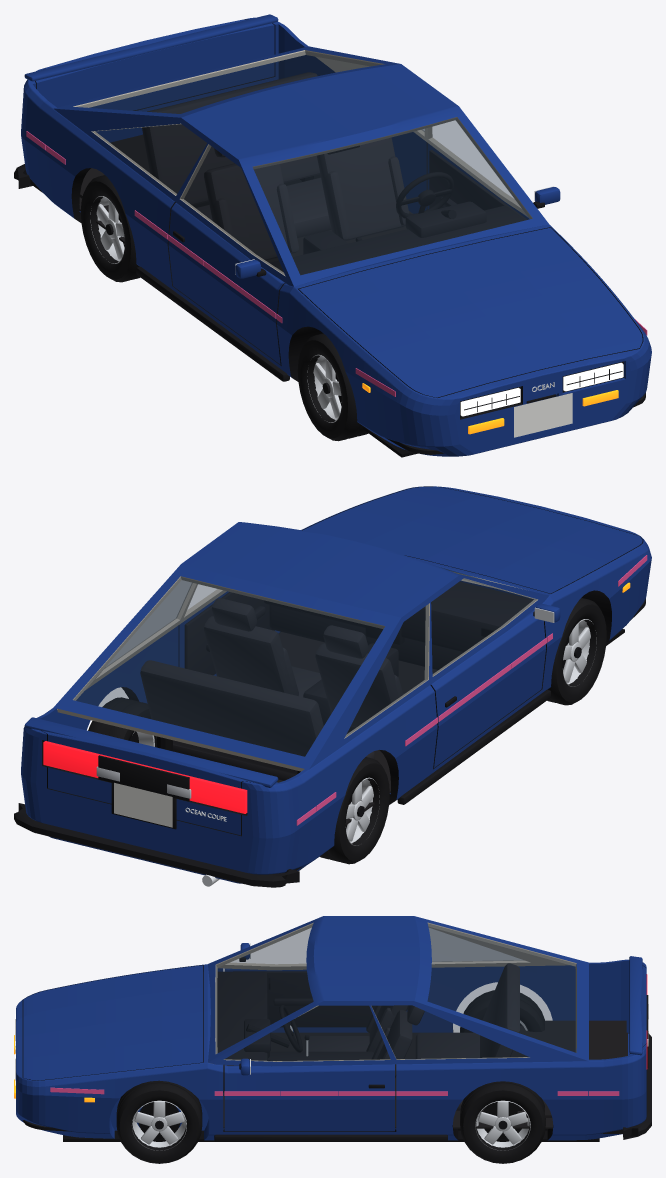
Rendered from ocean-coupe.glb.
3 renders of one model, top to bottom at view 1: azimuth 30°, elevation 25°; view 2: azimuth 150°, elevation 25°; view 3: azimuth 270°, elevation 25°, orthographic. The views are drawn at different scales.
Visible parts, largest first — view 1: Body, Hood, Windows, Interior, Tailgate, Door_FR, Glass_Rear, Glass_Door_F_R, Tire_FR, Tire_RR, Lights, DoorCard_FL (+5 smaller); view 2: Body, Interior, Glass_Rear, Hood, Tailgate, Door_FR, Windows, Glass_Door_F_R, Lights, Tire_RR, Tire_FR, DoorCard_FL (+4 smaller); view 3: Body, Hood, Interior, Windows, Glass_Rear, Door_FL, Glass_Door_F_L, Tailgate, Tire_FL, Tire_RL, DoorCard_FR, Rim_FL (+5 smaller).
Boxes of the visible parts, x1=… form: Body: x1=14, y1=17, x2=651, y2=456; Hood: x1=298, y1=227, x2=642, y2=397; Windows: x1=92, y1=118, x2=531, y2=274; Interior: x1=79, y1=72, x2=525, y2=274; Tailgate: x1=24, y1=14, x2=399, y2=117; Door_FR: x1=167, y1=203, x2=285, y2=364; Glass_Rear: x1=77, y1=51, x2=380, y2=113; Glass_Door_F_R: x1=181, y1=145, x2=284, y2=274; Tire_FR: x1=297, y1=333, x2=368, y2=441; Tire_RR: x1=80, y1=175, x2=140, y2=282; Lights: x1=362, y1=362, x2=623, y2=434; DoorCard_FL: x1=429, y1=150, x2=527, y2=219; Body: x1=14, y1=486, x2=651, y2=887; Interior: x1=140, y1=581, x2=533, y2=825; Glass_Rear: x1=74, y1=577, x2=384, y2=756; Hood: x1=303, y1=486, x2=642, y2=593; Tailgate: x1=24, y1=564, x2=400, y2=835; Door_FR: x1=430, y1=603, x2=560, y2=767; Windows: x1=105, y1=567, x2=483, y2=737; Glass_Door_F_R: x1=431, y1=578, x2=536, y2=675; Lights: x1=43, y1=582, x2=630, y2=813; Tire_RR: x1=319, y1=757, x2=389, y2=864; Tire_FR: x1=547, y1=598, x2=606, y2=705; DoorCard_FL: x1=184, y1=592, x2=274, y2=674; Body: x1=15, y1=916, x2=651, y2=1141; Hood: x1=23, y1=965, x2=202, y2=1080; Interior: x1=217, y1=963, x2=627, y2=1128; Windows: x1=216, y1=924, x2=529, y2=1059; Glass_Rear: x1=428, y1=923, x2=576, y2=1052; Door_FL: x1=224, y1=1058, x2=395, y2=1131; Glass_Door_F_L: x1=224, y1=1006, x2=390, y2=1061; Tailgate: x1=414, y1=916, x2=646, y2=1060; Tire_FL: x1=116, y1=1080, x2=202, y2=1163; Tire_RL: x1=460, y1=1081, x2=545, y2=1163; DoorCard_FR: x1=233, y1=971, x2=375, y2=1027; Rim_FL: x1=131, y1=1100, x2=186, y2=1150.
Size of the model in its own units: 2.19 by 1.31 by 4.75.
